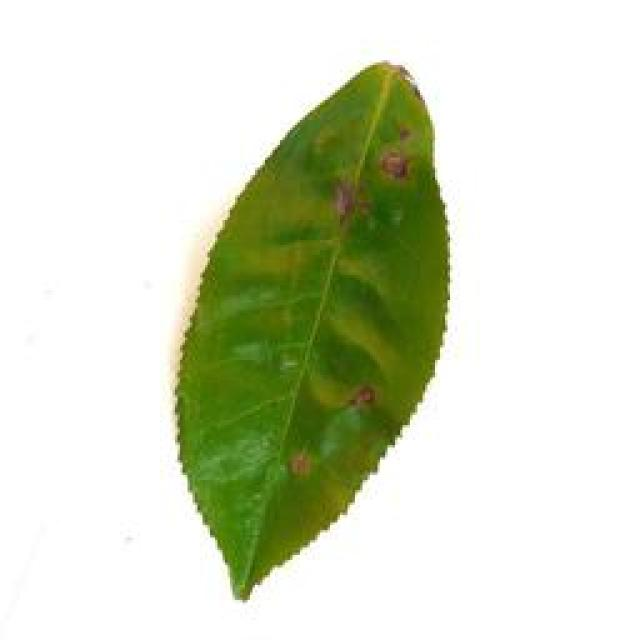Helopeltis: (175, 36, 458, 606)
